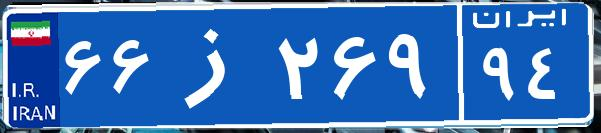2: (273, 28, 330, 110)
4: (525, 38, 570, 115)
6: (330, 28, 385, 110), (57, 26, 110, 107), (110, 28, 158, 105)
9: (385, 28, 445, 110), (475, 38, 525, 113)
ز: (158, 15, 273, 115)
